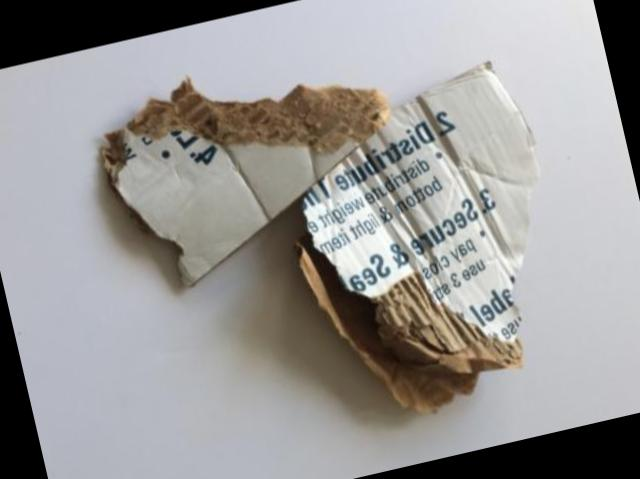cardboard paper: (301, 62, 538, 408), (102, 76, 390, 280)
